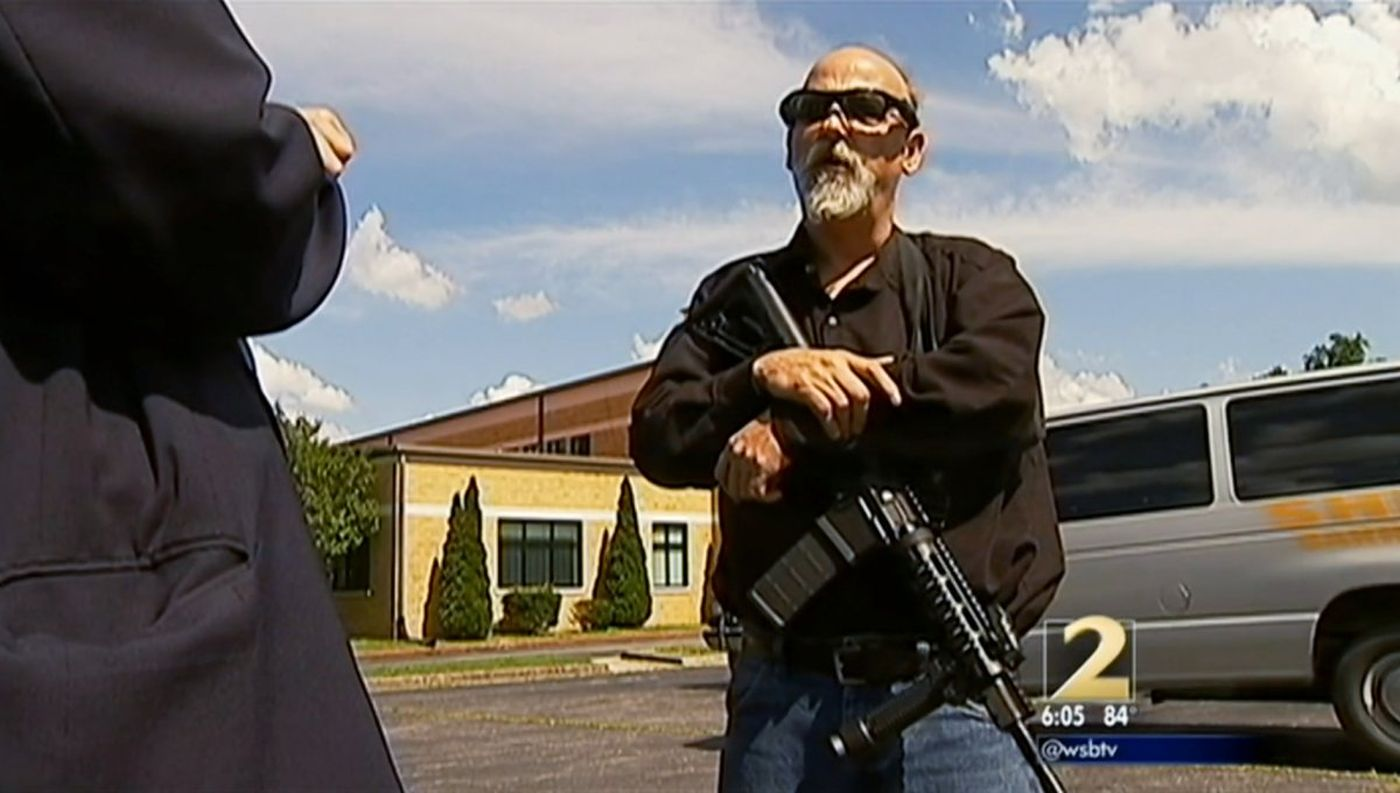Rifle: (705, 260, 1063, 793)
